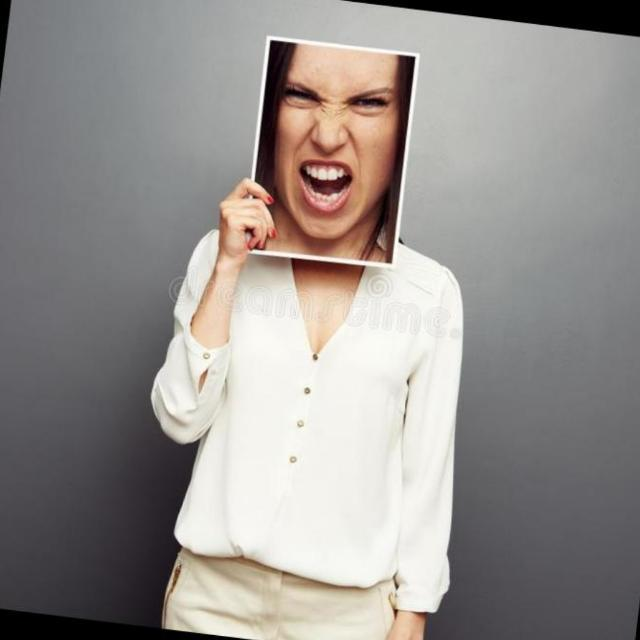angry: (179, 51, 444, 301)
